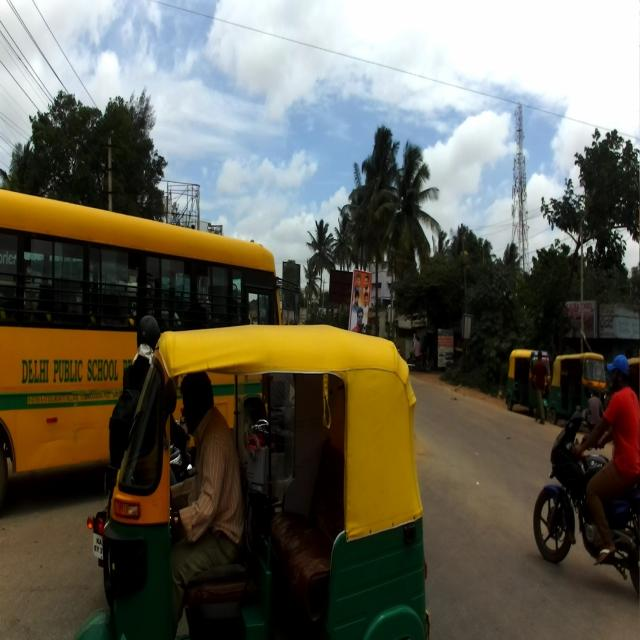autorickshaw: (70, 322, 432, 639), (550, 351, 608, 428)
bus: (0, 185, 302, 513)
motorcycle: (532, 404, 639, 594)
